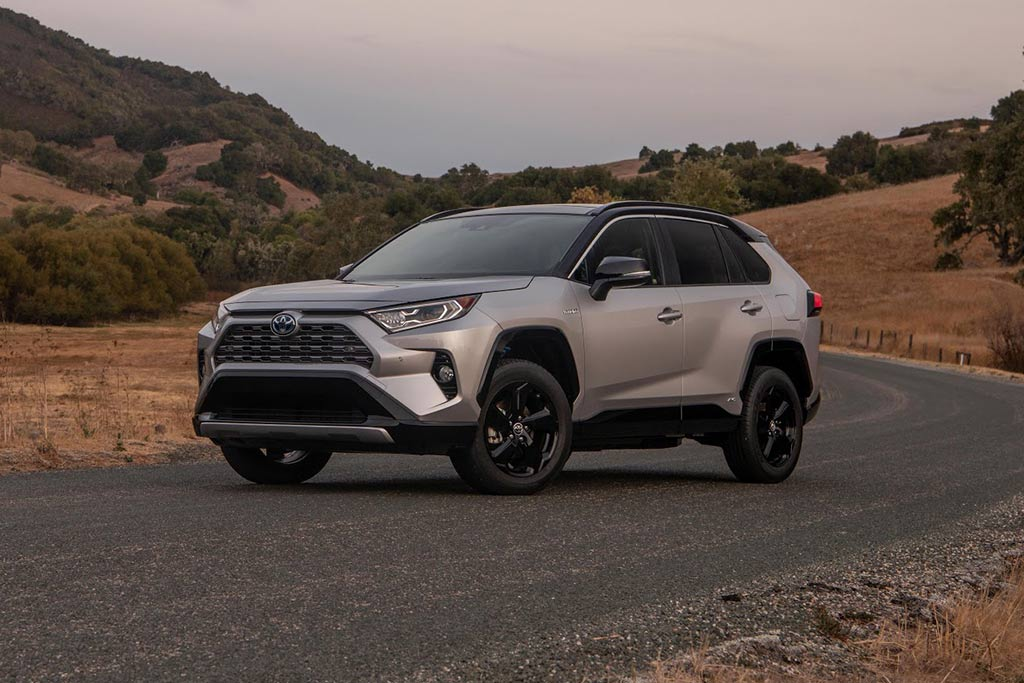Toyota RAV-4: (191, 199, 823, 495)
